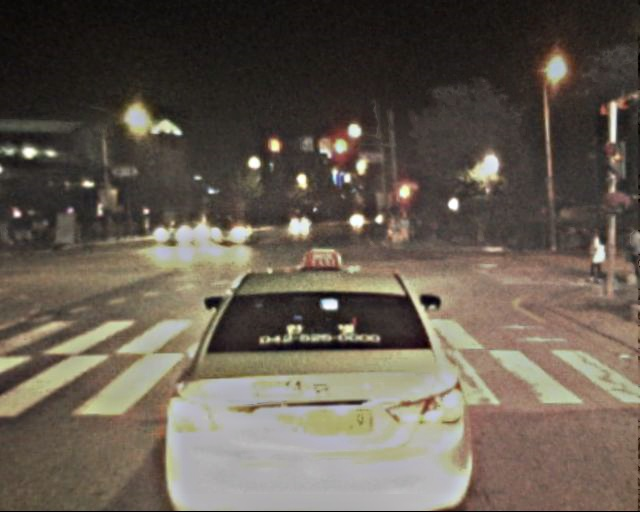person: (587, 226, 611, 285), (622, 227, 640, 283), (409, 219, 446, 244), (1, 214, 23, 249)
